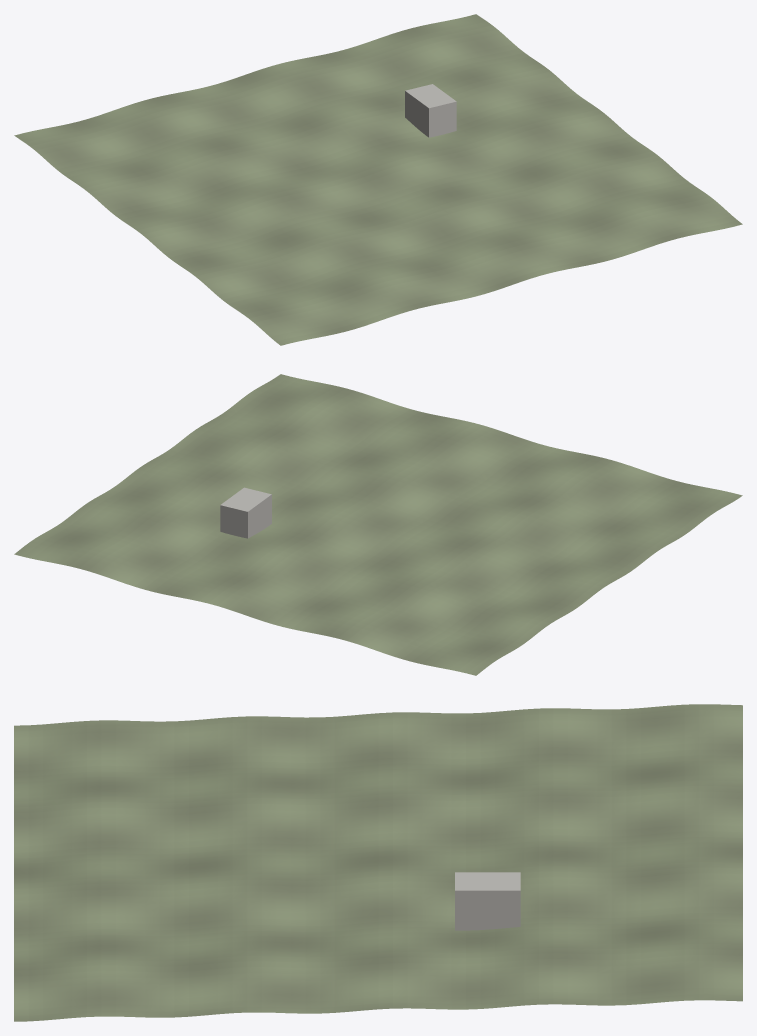
File: terrain.glb
The picture shows the model from 3 angles, top to bottom: view 1: azimuth 30°, elevation 25°; view 2: azimuth 150°, elevation 25°; view 3: azimuth 270°, elevation 25°; orthographic projection. The views are drawn at different scales.
Bounding box in the file's own units: 200 × 18.81 × 200.
